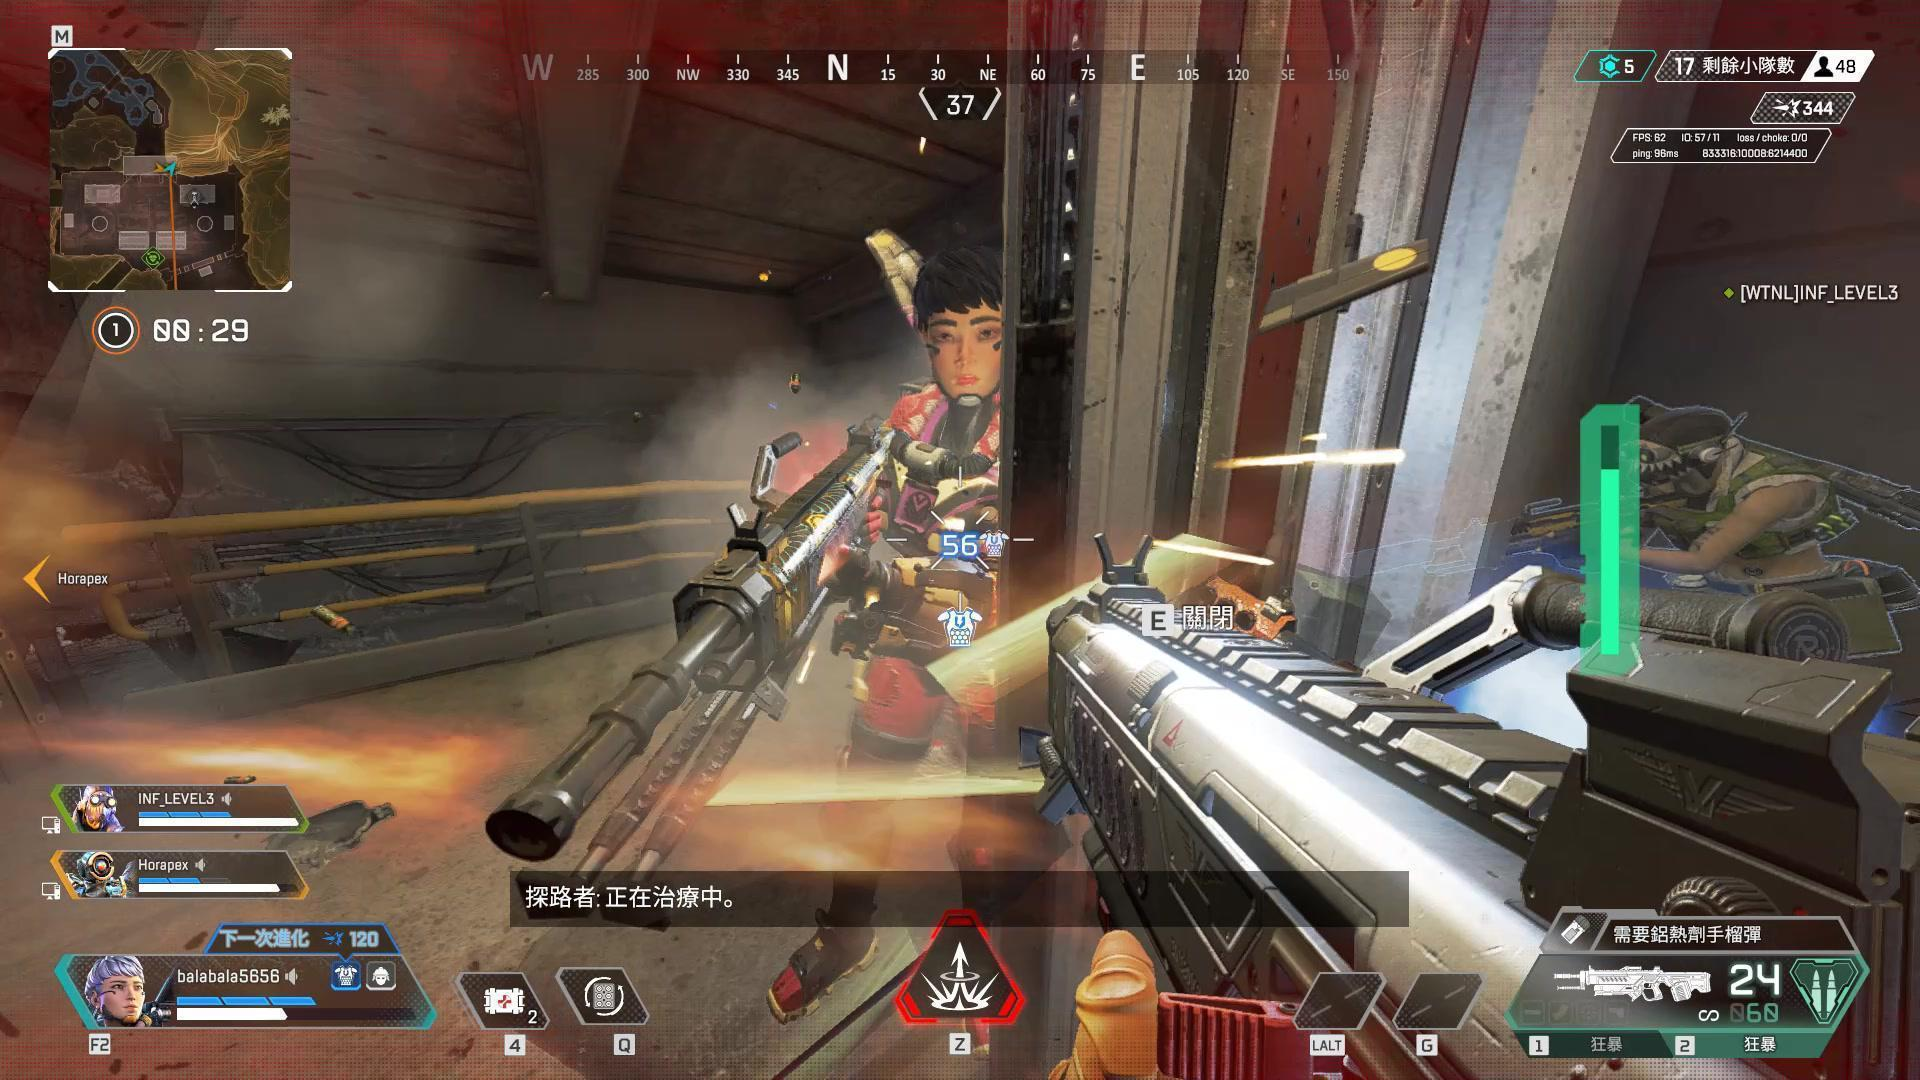avatar: (826, 240, 1002, 905)
